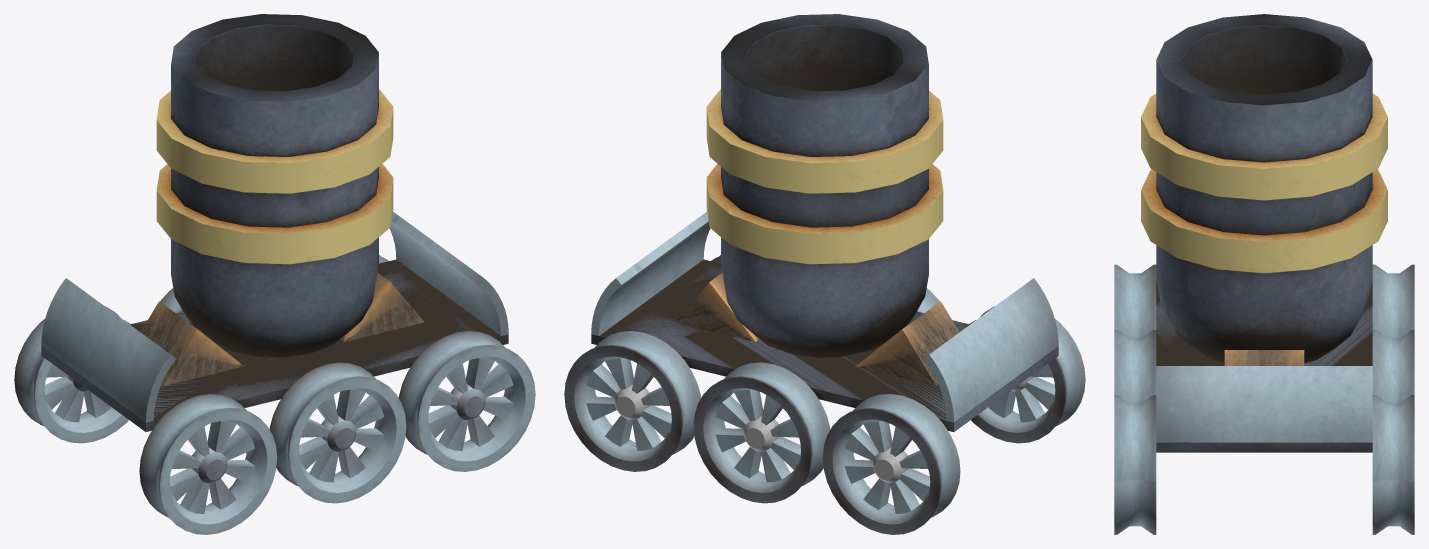
Rendered from Gun05.fbx.
The picture shows the model from 3 angles, left to right: view 1: azimuth 30°, elevation 25°; view 2: azimuth 150°, elevation 25°; view 3: azimuth 270°, elevation 25°; orthographic projection. The views are drawn at different scales.
Visible parts, largest first — view 1: Cylinder.039, Plane.011, Cylinder.041, Cylinder.040, Cylinder.042, Plane.010, Cylinder.044, Cylinder.046; view 2: Cylinder.039, Plane.011, Cylinder.044, Cylinder.043, Cylinder.045, Plane.010, Cylinder.041, Cylinder.046; view 3: Cylinder.039, Plane.011, Plane.010, Cylinder.042, Cylinder.045, Cylinder.041, Cylinder.044, Cylinder.040, Cylinder.043, Cylinder.046.
Boxes of the visible parts, bbox=[...] form: Cylinder.039: bbox=[156, 14, 393, 357]; Plane.011: bbox=[41, 211, 508, 422]; Cylinder.041: bbox=[139, 394, 277, 534]; Cylinder.040: bbox=[269, 362, 406, 503]; Cylinder.042: bbox=[398, 331, 535, 471]; Plane.010: bbox=[41, 259, 508, 431]; Cylinder.044: bbox=[14, 306, 130, 443]; Cylinder.046: bbox=[140, 272, 424, 385]; Cylinder.039: bbox=[706, 14, 943, 357]; Plane.011: bbox=[591, 211, 1058, 422]; Cylinder.044: bbox=[822, 394, 960, 534]; Cylinder.043: bbox=[693, 362, 830, 503]; Cylinder.045: bbox=[564, 331, 701, 471]; Plane.010: bbox=[591, 259, 1058, 431]; Cylinder.041: bbox=[969, 306, 1085, 443]; Cylinder.046: bbox=[675, 272, 959, 385]; Cylinder.039: bbox=[1141, 14, 1387, 363]; Plane.011: bbox=[1156, 366, 1372, 442]; Plane.010: bbox=[1156, 280, 1372, 452]; Cylinder.042: bbox=[1114, 395, 1156, 534]; Cylinder.045: bbox=[1372, 395, 1414, 534]; Cylinder.041: bbox=[1114, 264, 1156, 338]; Cylinder.044: bbox=[1372, 264, 1414, 338]; Cylinder.040: bbox=[1114, 330, 1156, 403]; Cylinder.043: bbox=[1372, 330, 1414, 403]; Cylinder.046: bbox=[1224, 350, 1304, 365].
Bounding box in the file's own units: 414 × 412 × 278.
Materials: 1 (1 with a texture image).
